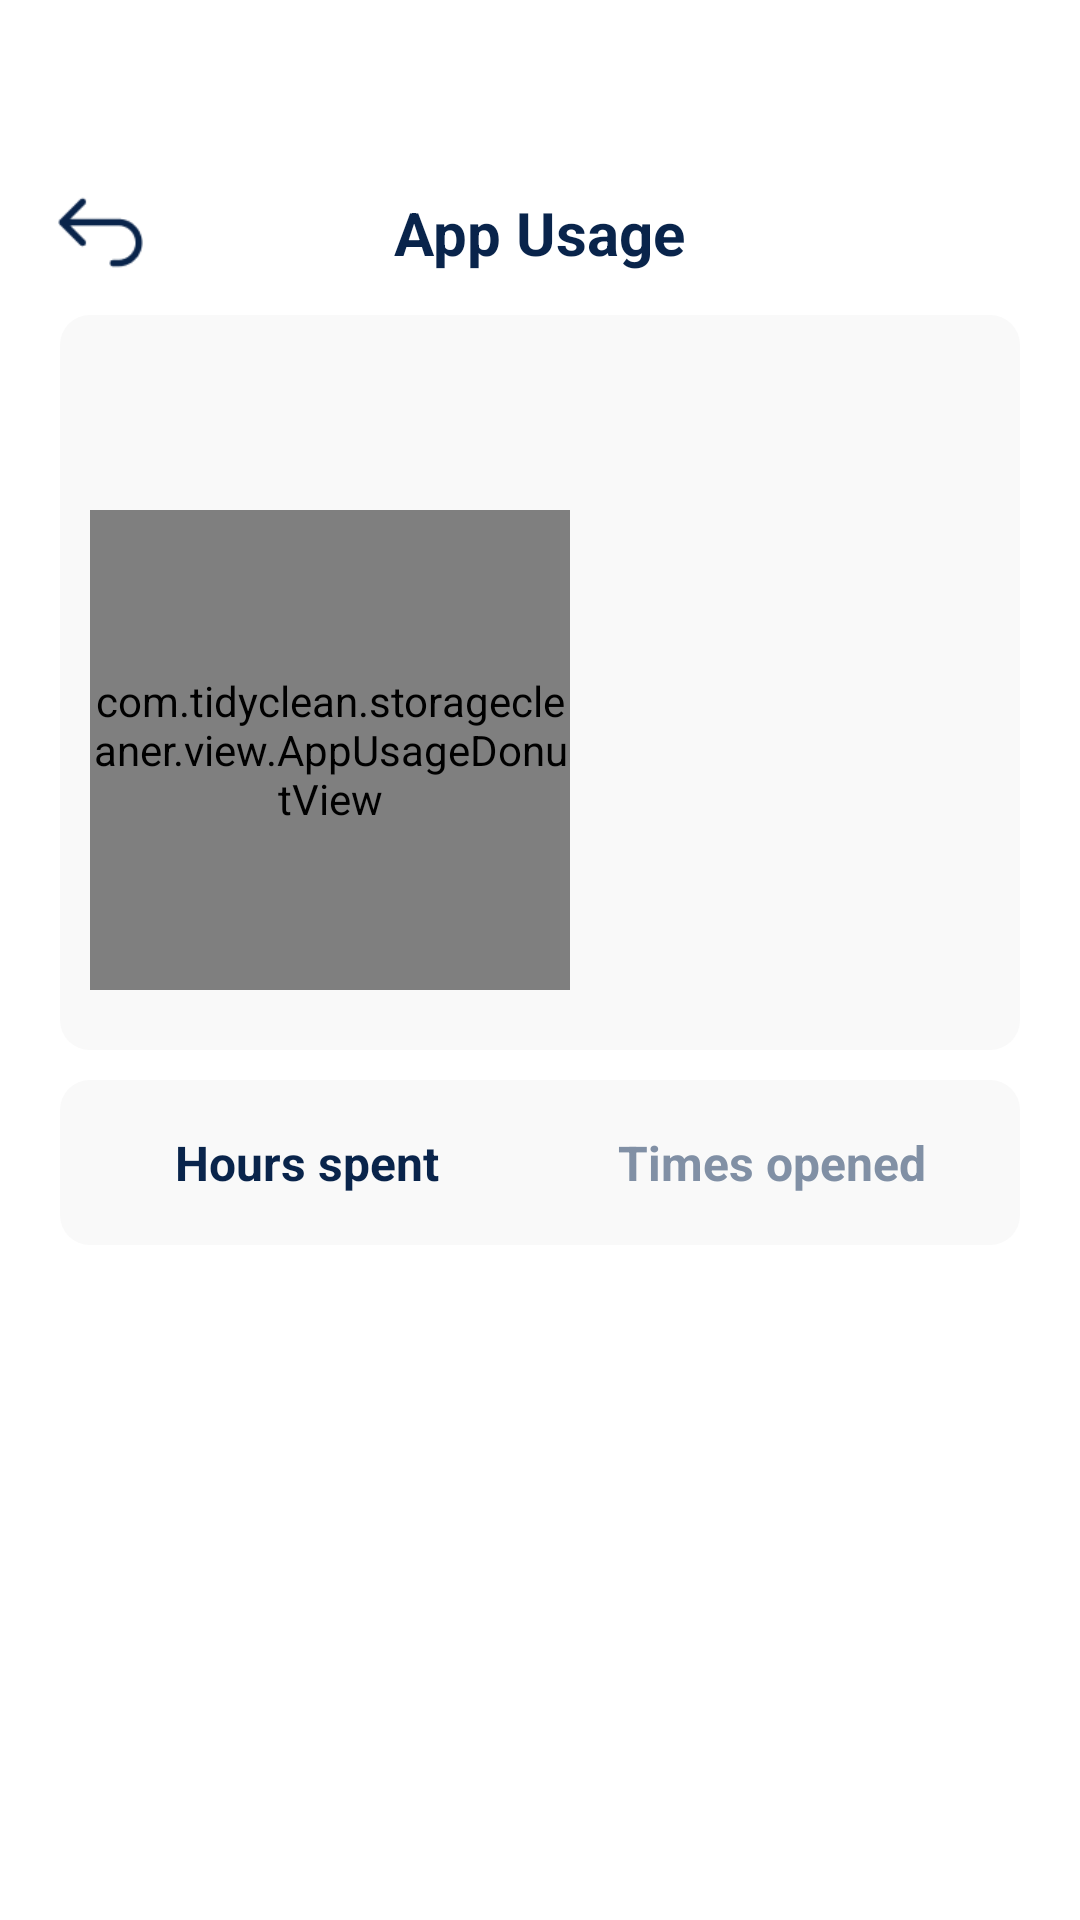

Screen size 1080×1920. Icon name, then its box in pixels as (x1, y1, x2, y2):
back: (58, 198, 143, 268)
